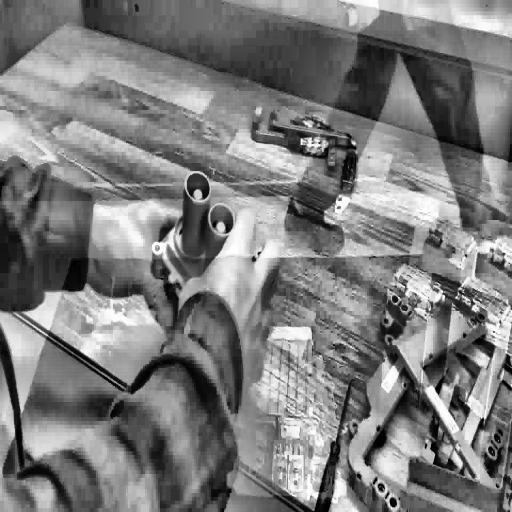busbar: (246, 89, 364, 217)
connector: (145, 170, 283, 377)
